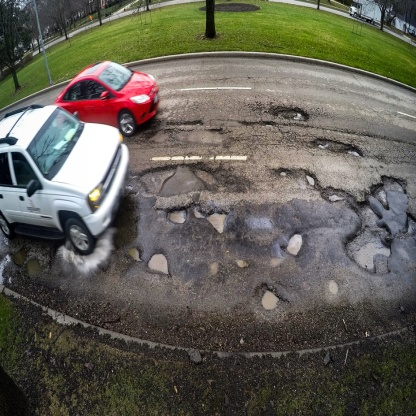pothole: (318, 171, 416, 276), (190, 197, 237, 240), (250, 278, 294, 322), (305, 131, 367, 158), (265, 100, 316, 126), (278, 226, 312, 264), (144, 246, 173, 281), (164, 202, 191, 227)
